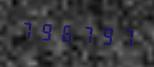nine: (36, 17, 54, 45), (94, 21, 112, 49)
seven: (17, 15, 35, 44), (75, 19, 93, 48), (113, 22, 131, 50)
six: (56, 18, 74, 46)
